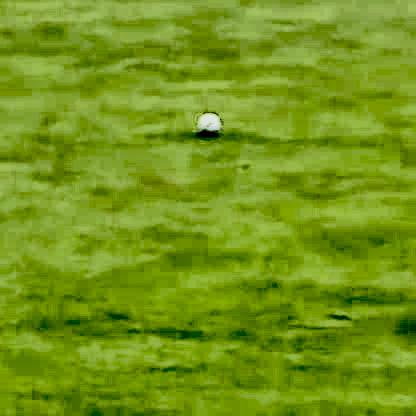golfball: (194, 108, 219, 133)
